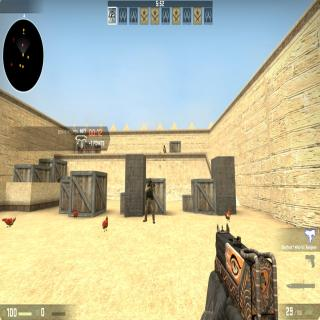CT-Body: (143, 176, 155, 224)
CT-Head: (147, 177, 153, 186)
T-Body: (162, 144, 166, 153)
